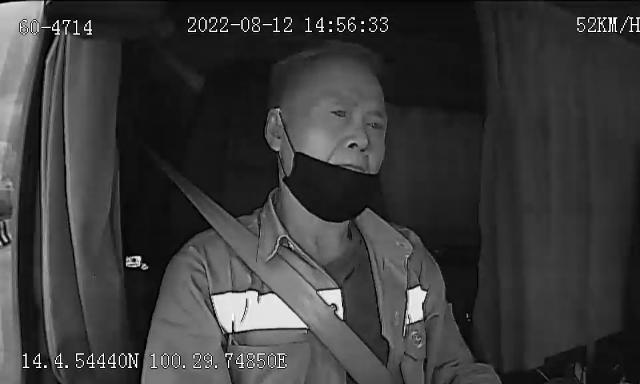SafeDriving: (360, 110, 390, 135), (323, 101, 354, 125)
Seatbelt: (172, 174, 400, 384)
